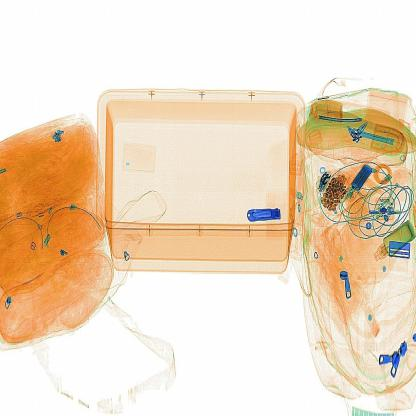knife: (244, 201, 288, 230)
